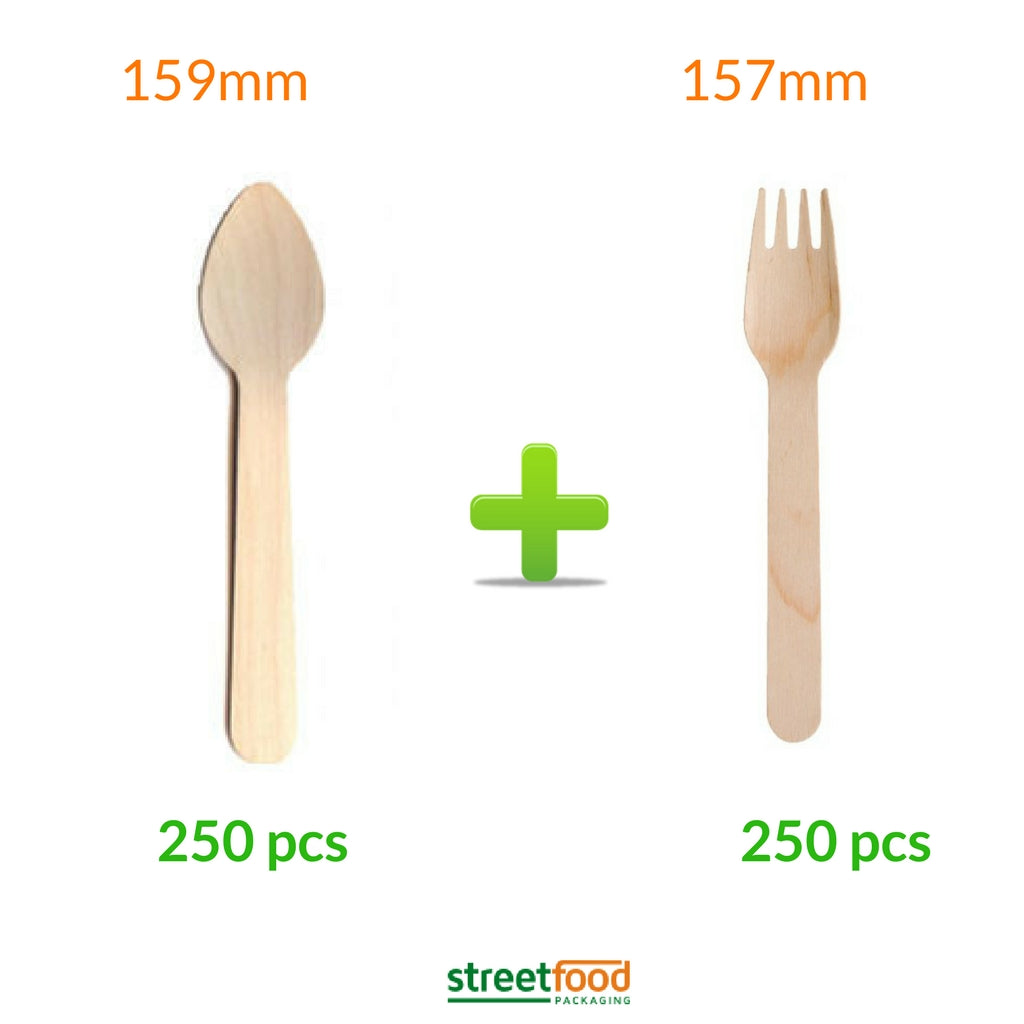Wooden Utensils: (704, 175, 892, 761), (183, 180, 350, 751)
